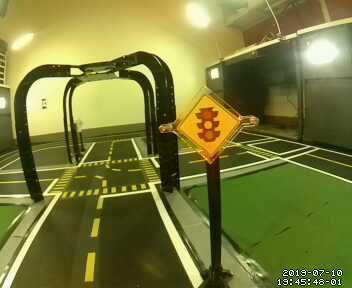Traffic light sign: (178, 92, 240, 158)
